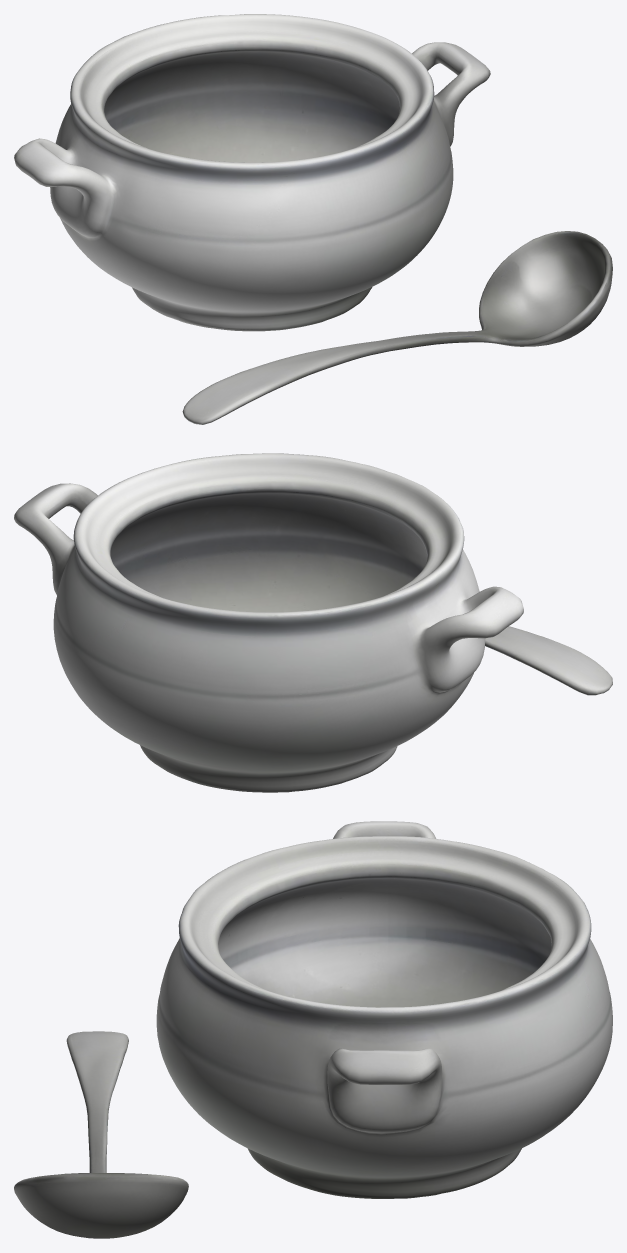
The model's file is model_soup_tureen_ladle.glb.
The picture shows the model from 3 angles, top to bottom: view 1: azimuth 30°, elevation 25°; view 2: azimuth 150°, elevation 25°; view 3: azimuth 270°, elevation 25°; orthographic projection. The views are drawn at different scales.
Parts seen in each view (by area): view 1: tripo_node_8848bf07-c719-492c-8856-43272305559b; view 2: tripo_node_8848bf07-c719-492c-8856-43272305559b; view 3: tripo_node_8848bf07-c719-492c-8856-43272305559b.
Part boxes in pixels (left/top/right/bottom): tripo_node_8848bf07-c719-492c-8856-43272305559b: left=14, top=14, right=612, bottom=424; tripo_node_8848bf07-c719-492c-8856-43272305559b: left=14, top=453, right=612, bottom=792; tripo_node_8848bf07-c719-492c-8856-43272305559b: left=14, top=821, right=612, bottom=1238.
Size of the model in its own units: 0.9877 by 0.4061 by 0.999.
1 material, 1 textured.
